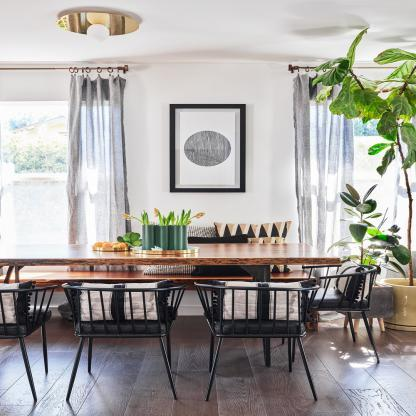chair: (191, 272, 324, 410), (59, 278, 182, 403), (296, 262, 392, 364), (0, 279, 54, 406)
light: (57, 3, 139, 45)
table: (0, 244, 337, 370)
